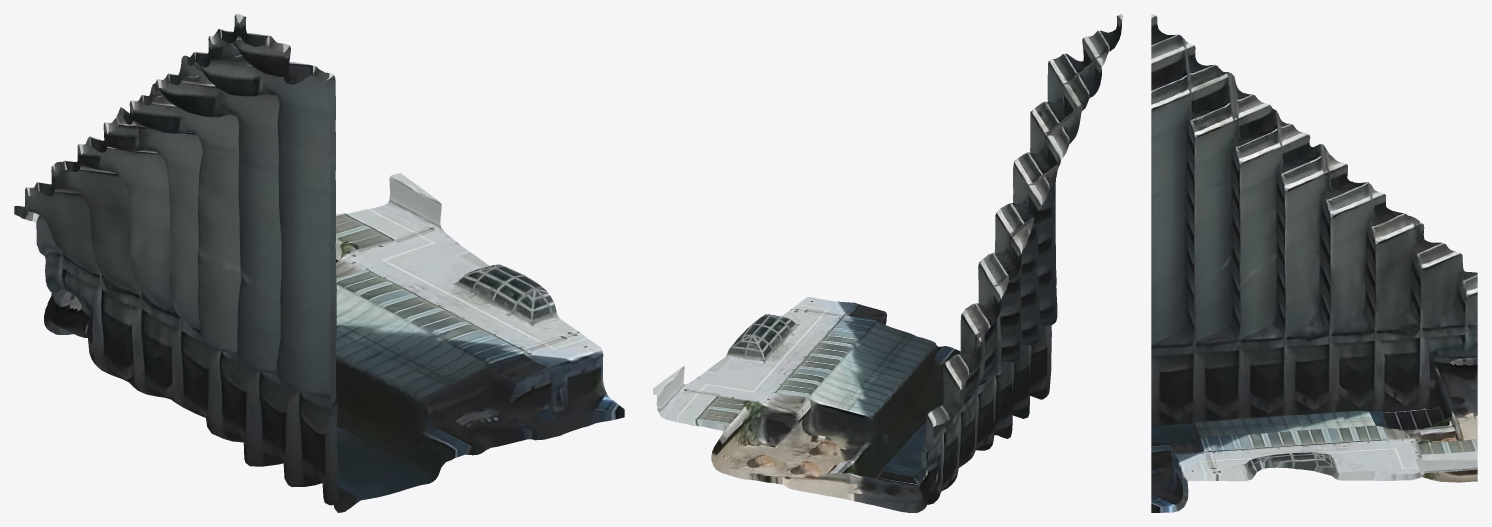
Rendered from z20-167784-405223-h0-yup-uvflip-v3-world.glb.
3 views of the same model, side by side, from view 1: azimuth 30°, elevation 25°; view 2: azimuth 150°, elevation 25°; view 3: azimuth 270°, elevation 25° (orthographic). The views are drawn at different scales.
Bounding box in the file's own units: 30.2 × 39.08 × 30.32.
1 material, 1 textured.
